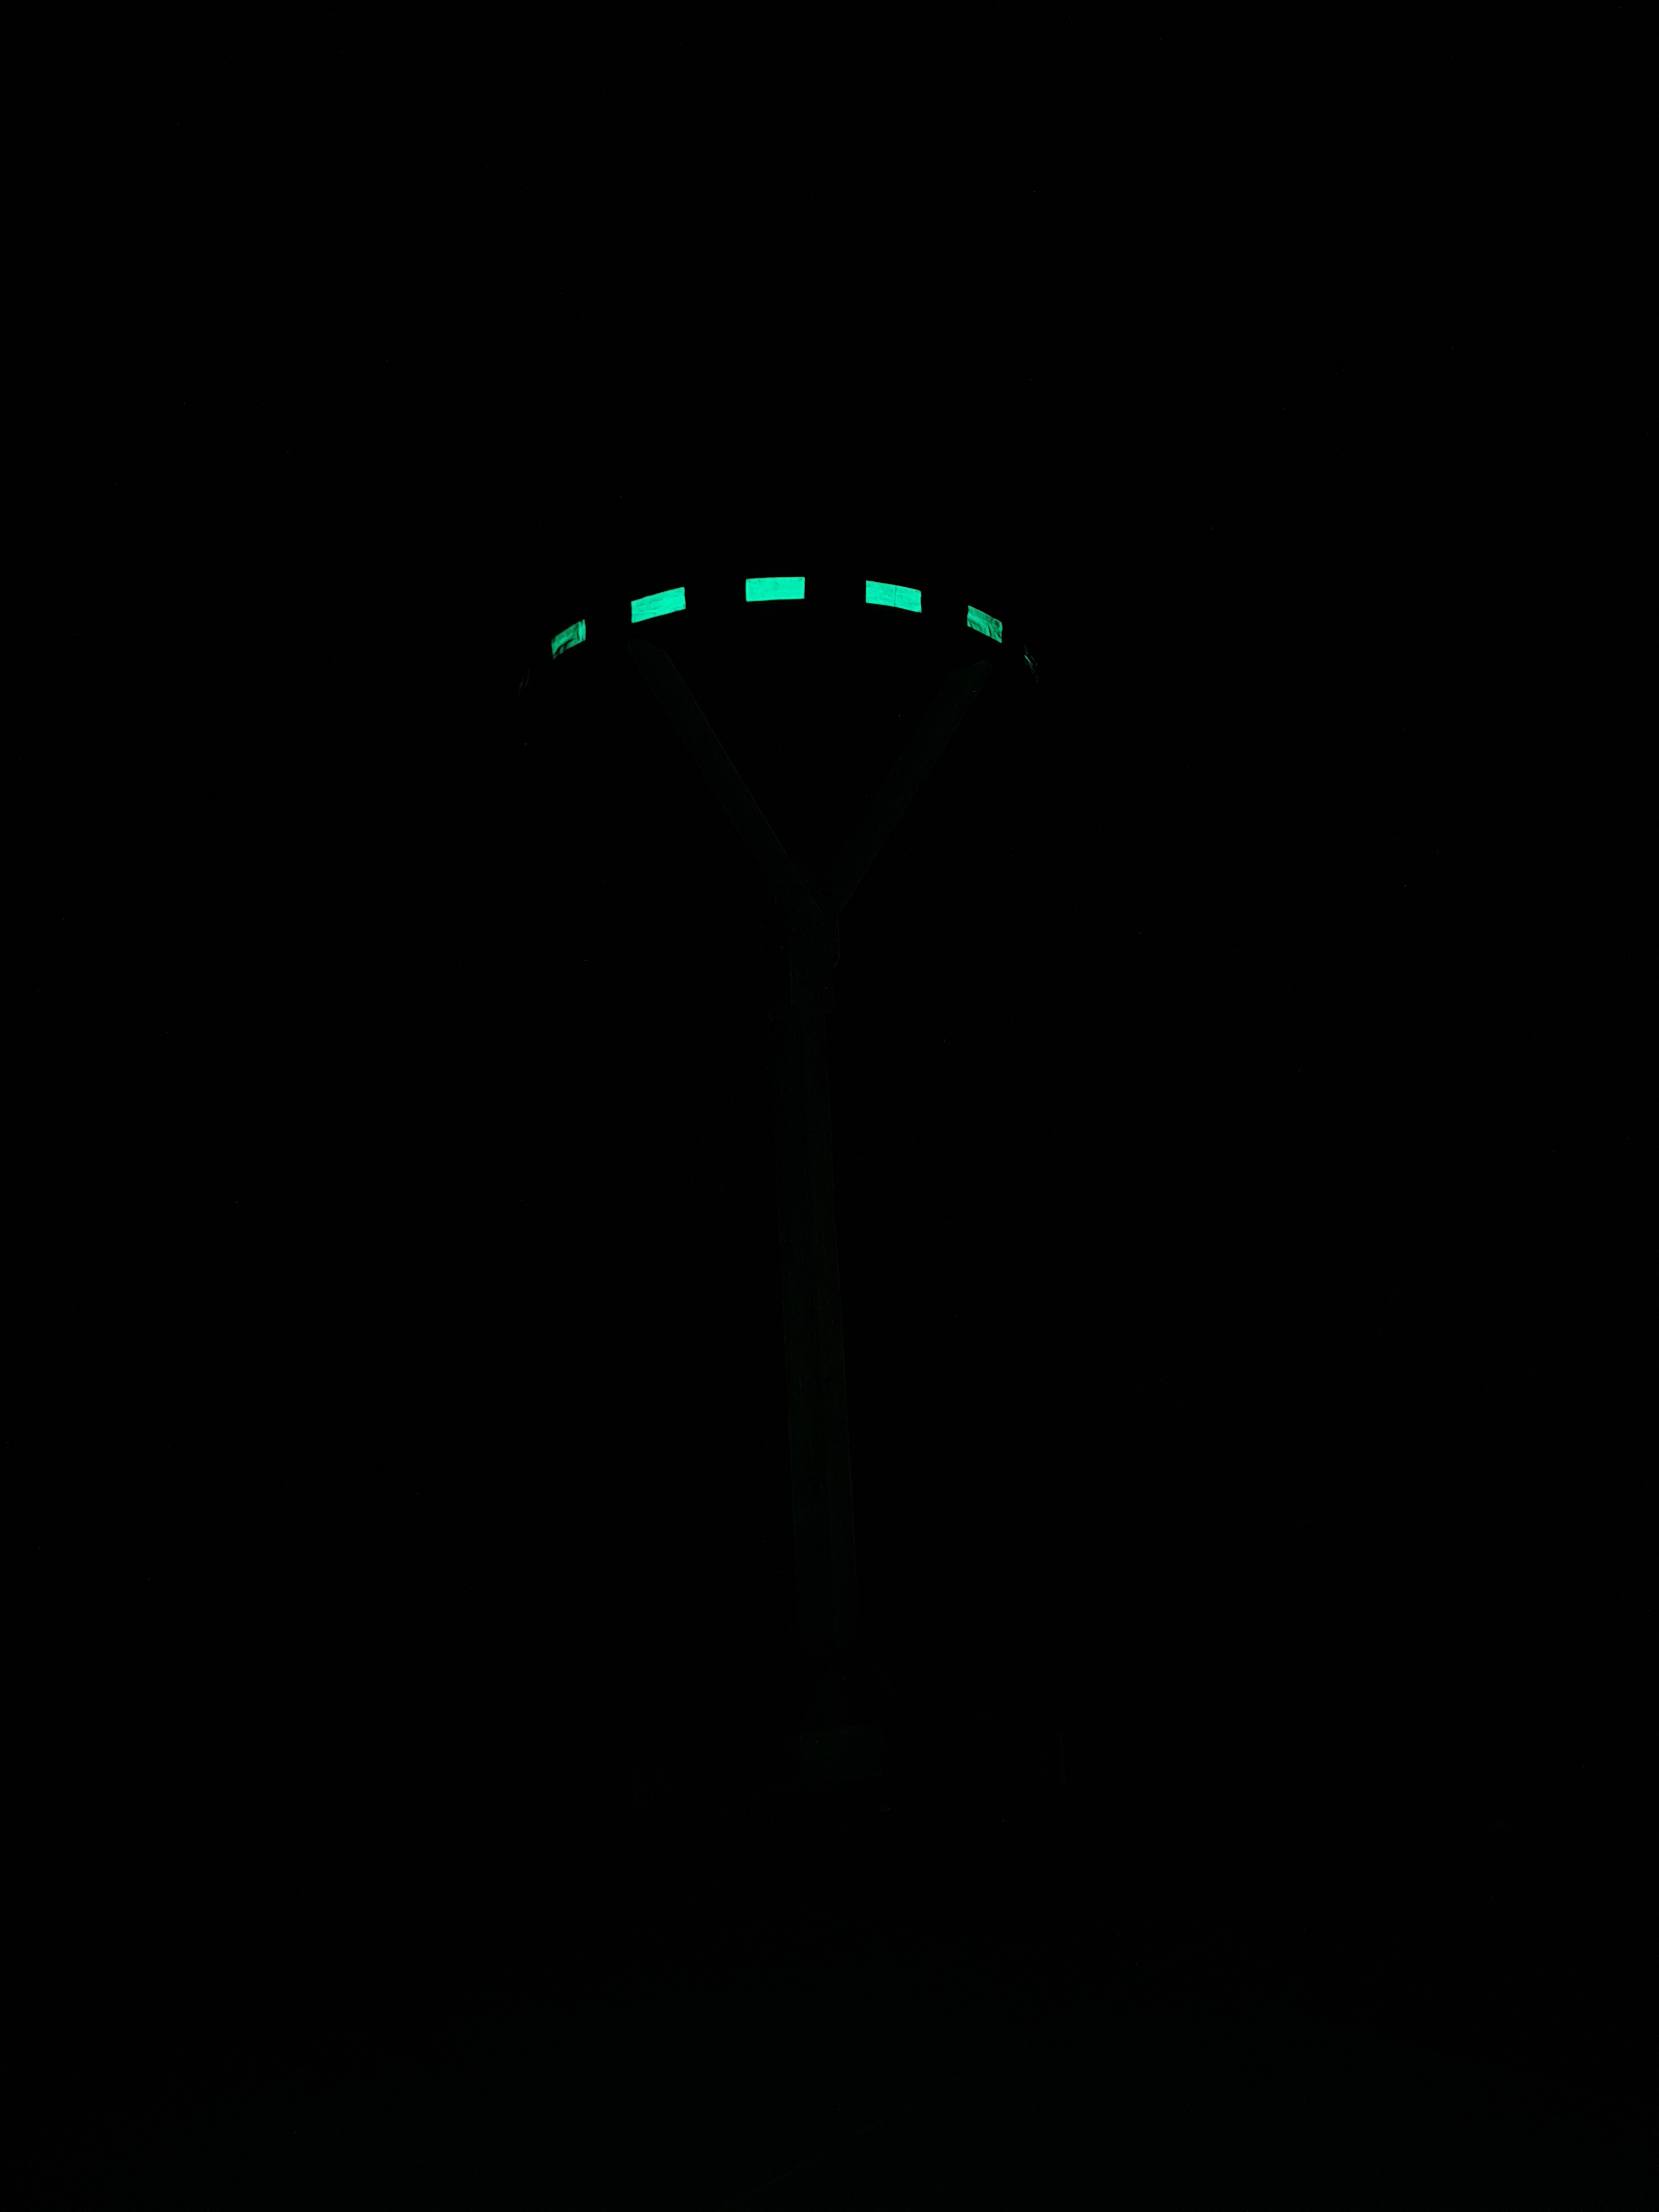hoop: (551, 577, 1009, 658)
